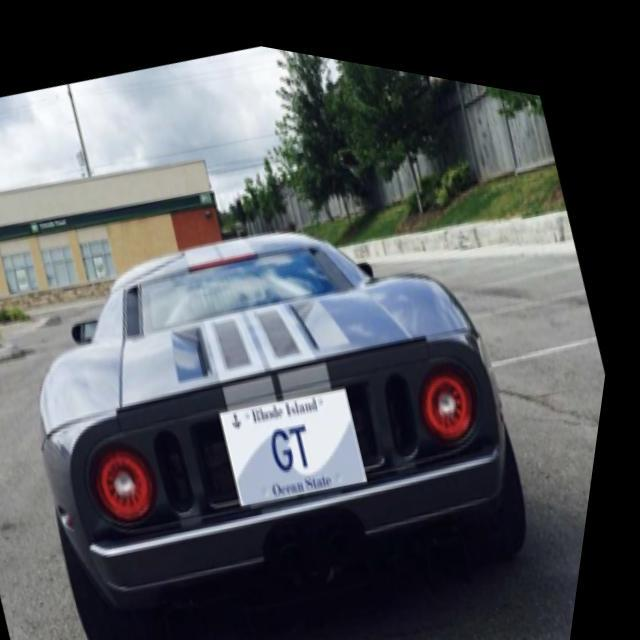license_plate: (219, 356, 384, 509)
